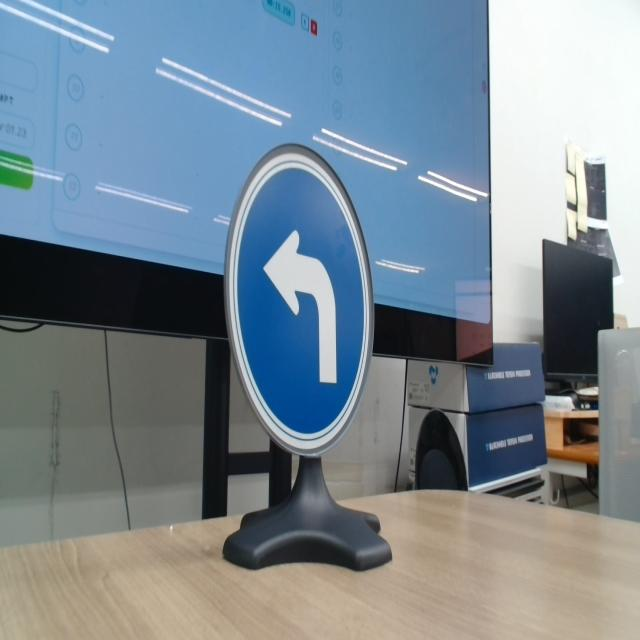green_light: (222, 132, 380, 464)
